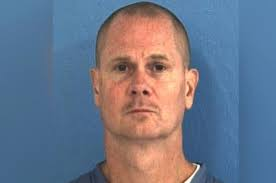white_male: (100, 17, 185, 144)
